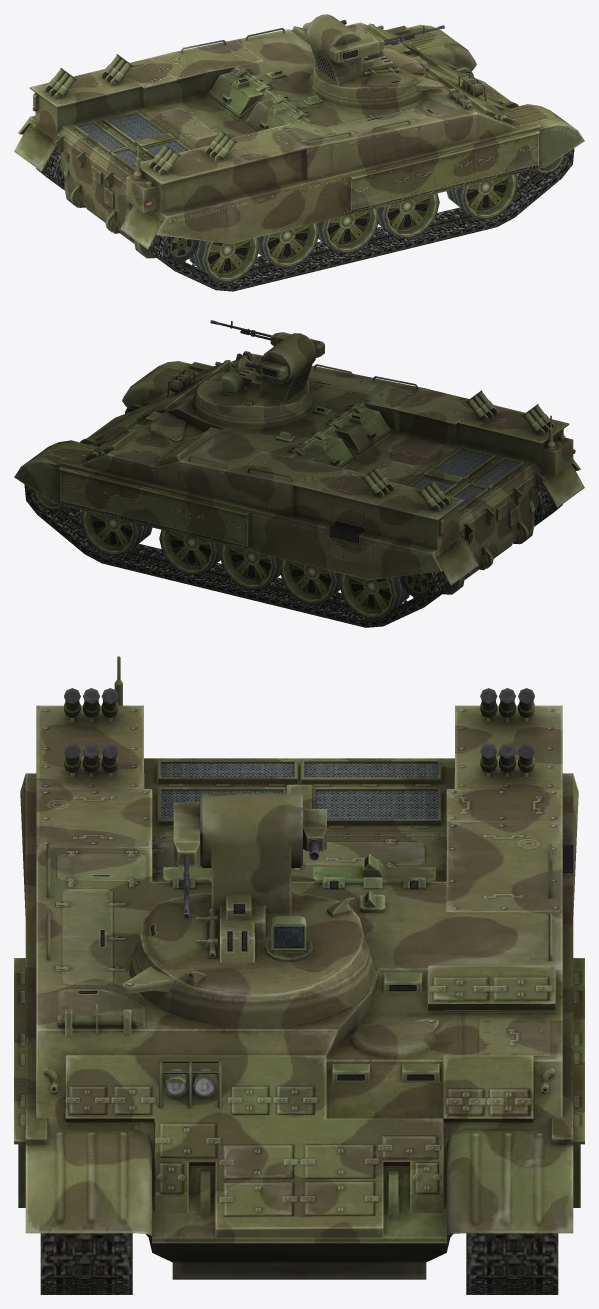
The model's file is tank_o.glb.
3 views of the same model, one above another, from view 1: azimuth 30°, elevation 25°; view 2: azimuth 150°, elevation 25°; view 3: azimuth 270°, elevation 25° (orthographic). The views are drawn at different scales.
Parts seen in each view (by area): view 1: mesh_321_mat_65_0, mesh_322_mat_64_0; view 2: mesh_321_mat_65_0, mesh_322_mat_64_0; view 3: mesh_321_mat_65_0, mesh_322_mat_64_0.
Boxes of the visible parts, bbox=[...] form: mesh_321_mat_65_0: bbox=[14, 14, 584, 282]; mesh_322_mat_64_0: bbox=[36, 146, 574, 291]; mesh_321_mat_65_0: bbox=[14, 320, 584, 618]; mesh_322_mat_64_0: bbox=[24, 482, 562, 627]; mesh_321_mat_65_0: bbox=[14, 656, 584, 1279]; mesh_322_mat_64_0: bbox=[40, 1233, 558, 1294].
Bounding box in the file's own units: 57.08 × 24 × 32.37.
2 materials, 2 textured.
